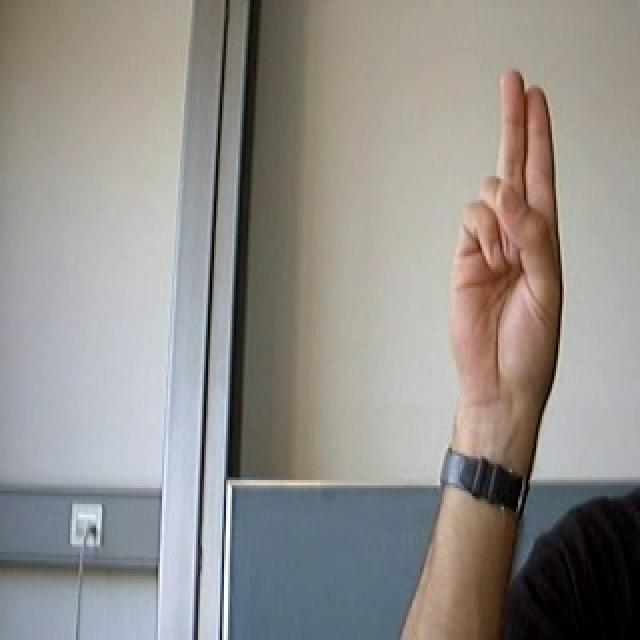U: (404, 51, 580, 472)
